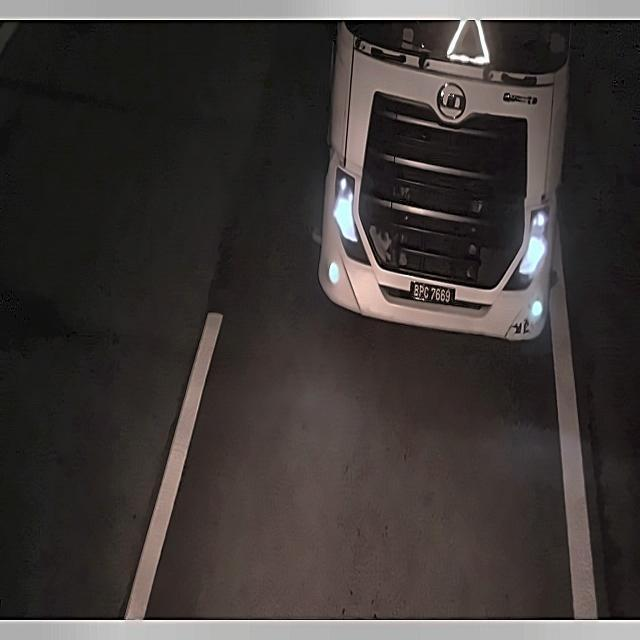car: (404, 267, 463, 315)
